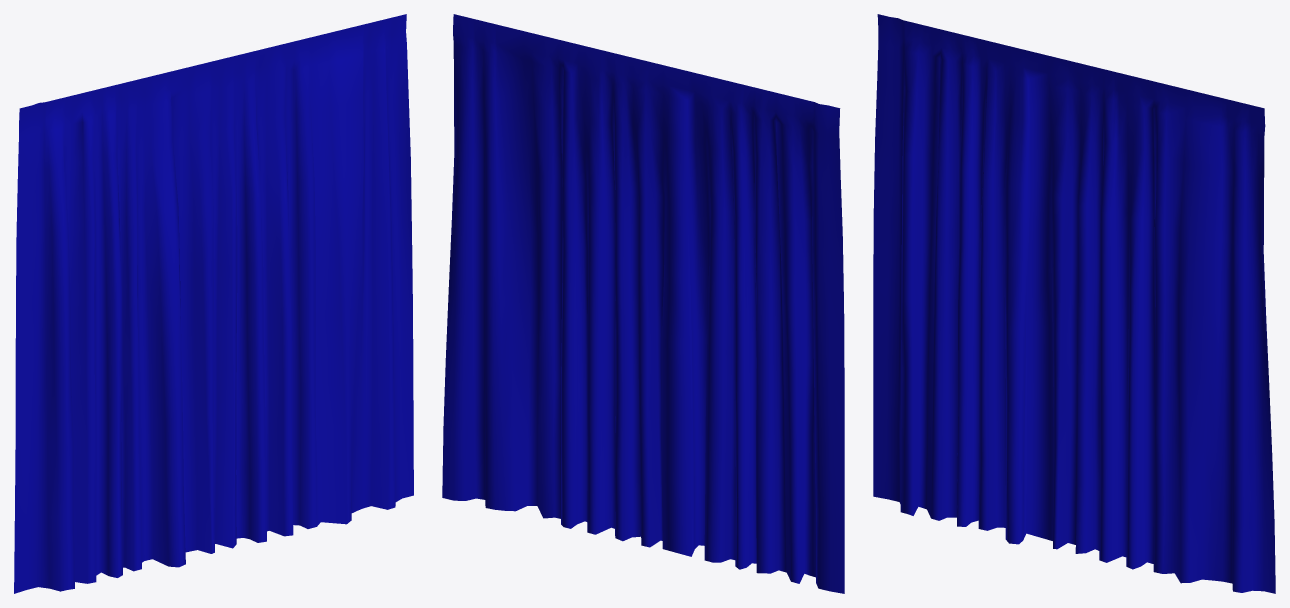
File: Drape.fbx
The picture shows the model from 3 angles, left to right: view 1: azimuth 30°, elevation 25°; view 2: azimuth 150°, elevation 25°; view 3: azimuth 330°, elevation 25°; orthographic projection.
Parts seen in each view (by area): view 1: SM_Gardin_60; view 2: SM_Gardin_60; view 3: SM_Gardin_60.
Boxes of the visible parts, box(x1,y1,x2,y2) form: SM_Gardin_60: box(14, 14, 413, 593); SM_Gardin_60: box(442, 14, 844, 593); SM_Gardin_60: box(873, 14, 1275, 593).
Bounding box in the file's own units: 81.76 × 94.46 × 5.75.
